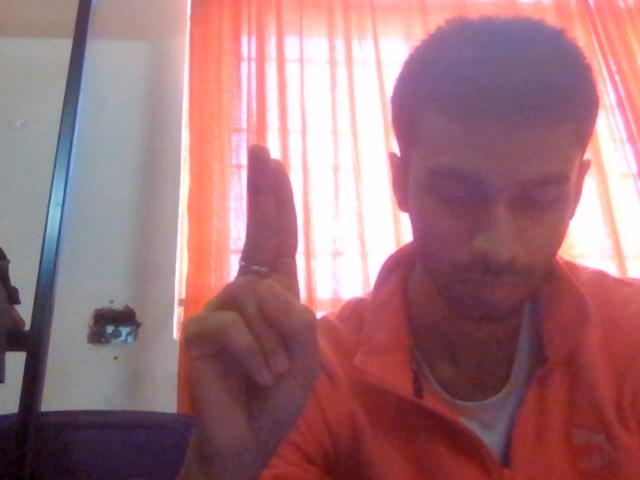U: (173, 123, 351, 480)
